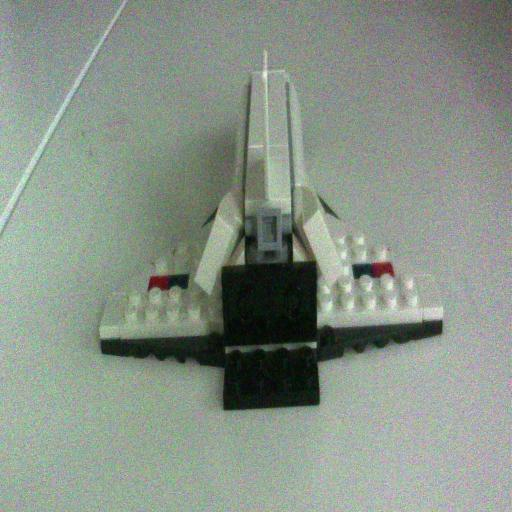defect_missingpiece: (220, 205, 323, 408)
